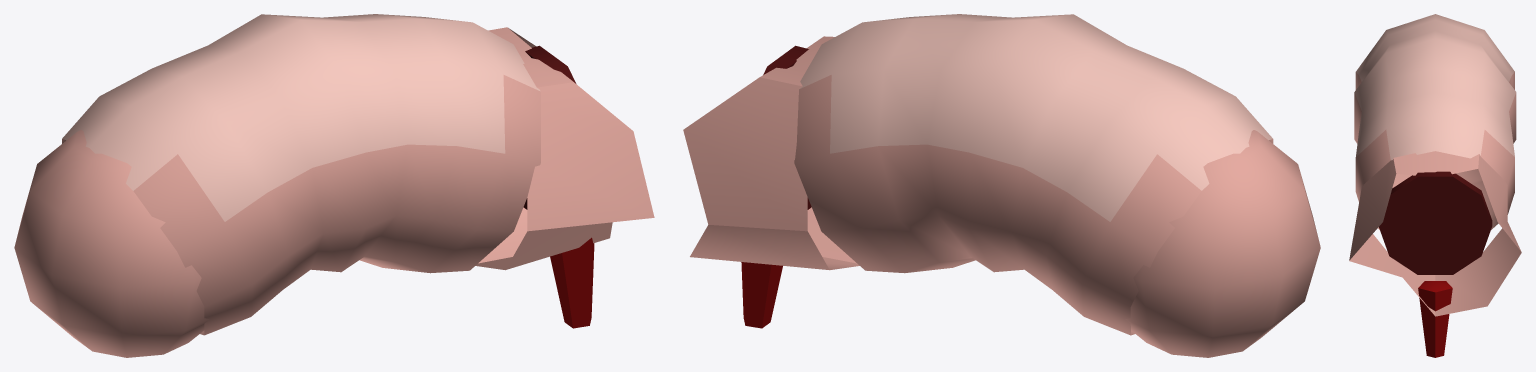
File: organ_intestine_end.glb
3 views of the same model, side by side, from view 1: azimuth 30°, elevation 25°; view 2: azimuth 150°, elevation 25°; view 3: azimuth 270°, elevation 25° (orthographic). The views are drawn at different scales.
Parts seen in each view (by area): view 1: organ_intestine_end; view 2: organ_intestine_end; view 3: organ_intestine_end.
Part boxes in pixels (x1=…): organ_intestine_end: x1=14, y1=14, x2=654, y2=357; organ_intestine_end: x1=683, y1=14, x2=1320, y2=357; organ_intestine_end: x1=1349, y1=14, x2=1521, y2=357.
Bounding box in the file's own units: 0.0686 × 0.0424 × 0.0284.
